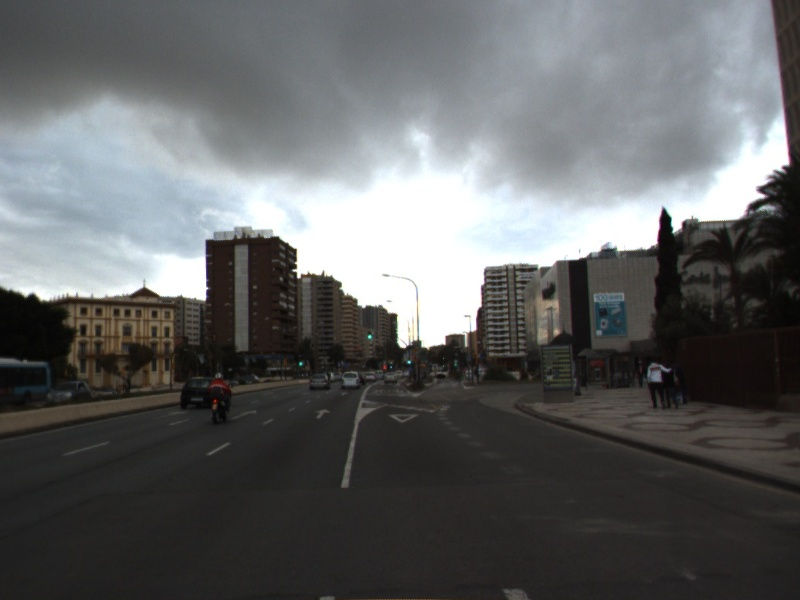STRAIGHT: (230, 408, 259, 421), (313, 407, 333, 420)
